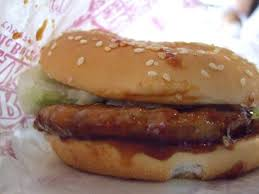hamburger: (21, 24, 259, 183)
